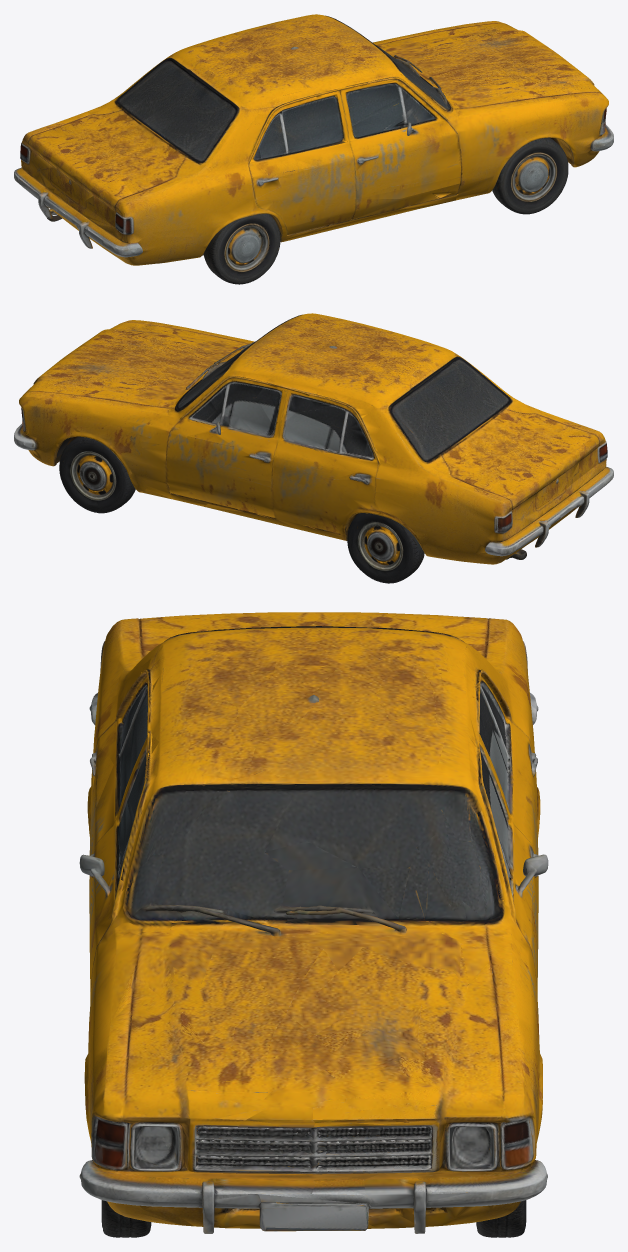
The model's file is gaucho-v8-abandonado__01a16c1c.glb.
The picture shows the model from 3 angles, top to bottom: view 1: azimuth 30°, elevation 25°; view 2: azimuth 150°, elevation 25°; view 3: azimuth 270°, elevation 25°; orthographic projection. The views are drawn at different scales.
Visible parts, largest first — view 1: gaucho-v8-abandonado; view 2: gaucho-v8-abandonado; view 3: gaucho-v8-abandonado.
Part boxes in pixels (x1,y1,x2,y2): gaucho-v8-abandonado: (14,14,613,284); gaucho-v8-abandonado: (14,313,613,583); gaucho-v8-abandonado: (79,612,548,1237).
Size of the model in its own units: 4.58 by 1.5 by 1.82.
Materials: 1 (1 with a texture image).
